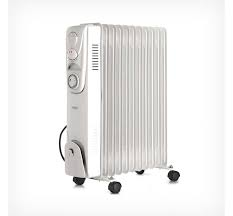Radiator: (60, 21, 181, 193)
